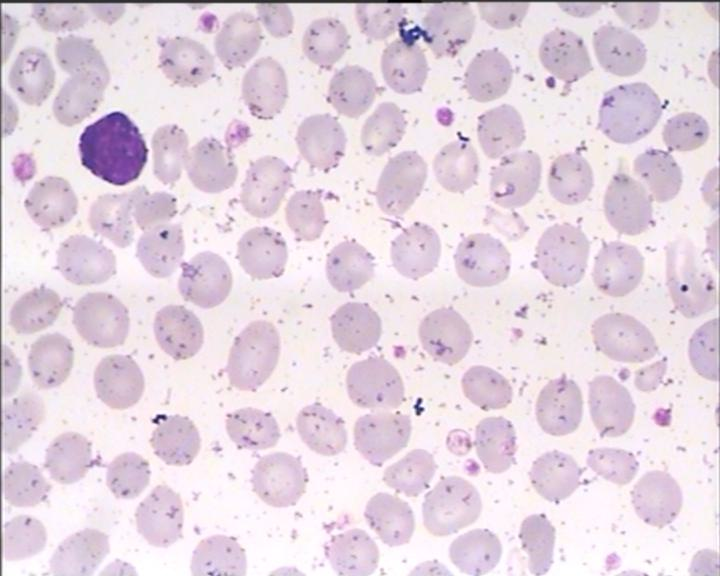baso: (72, 106, 157, 190)
